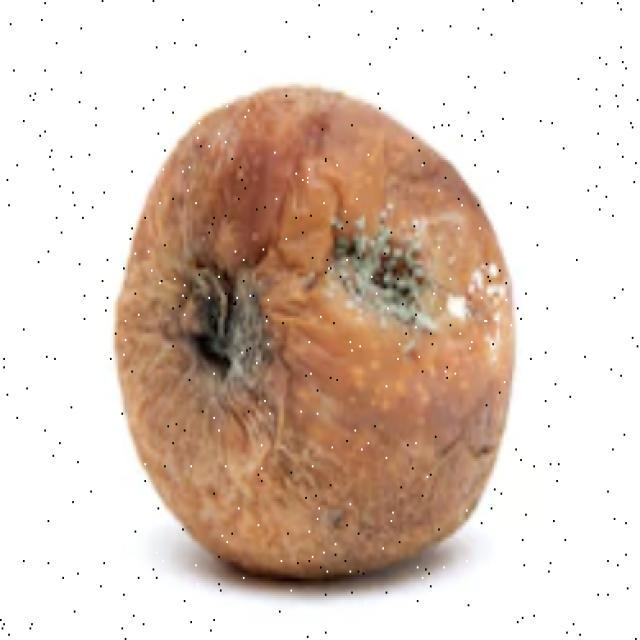Rotten: (87, 80, 525, 640)
